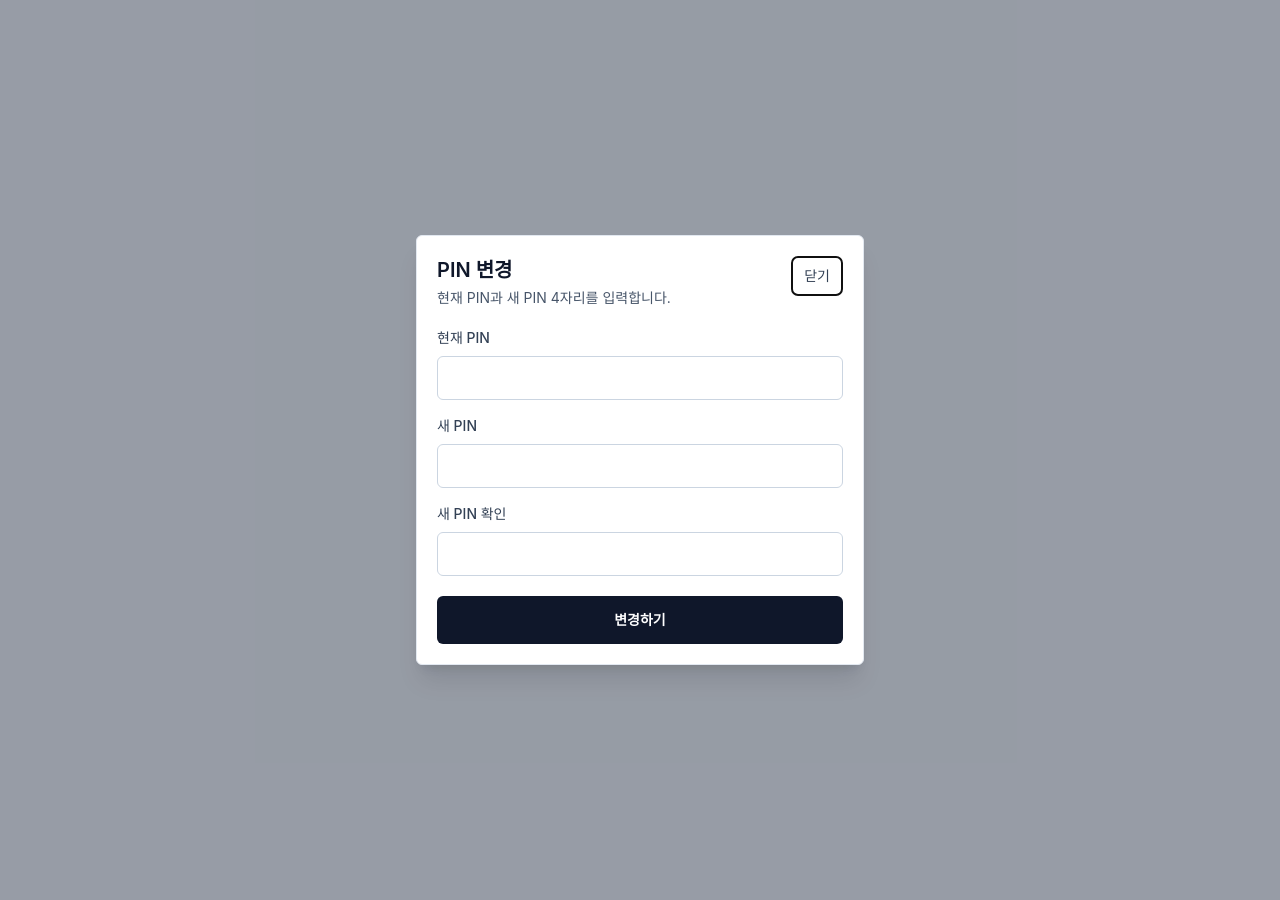
Test: does not submit when the new PIN confirmation differs
The image size is (1280, 900).
Type "0000" into the password field labelled "현재 PIN".
click(640, 378); type("0000")  # box [437,356,843,400]
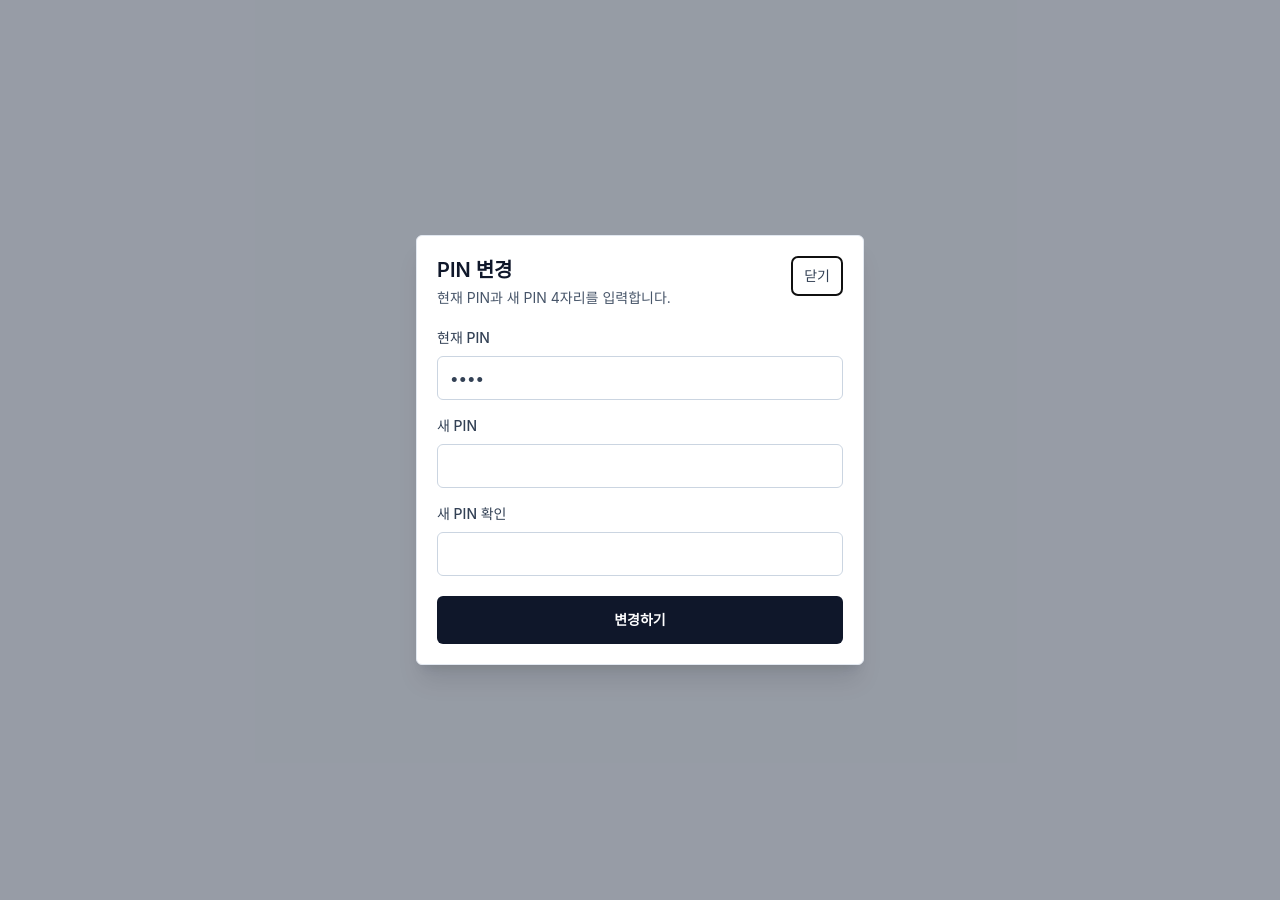
Type "0123" into the password field labelled "새 PIN".
click(640, 466); type("0123")  # box [437,444,843,488]
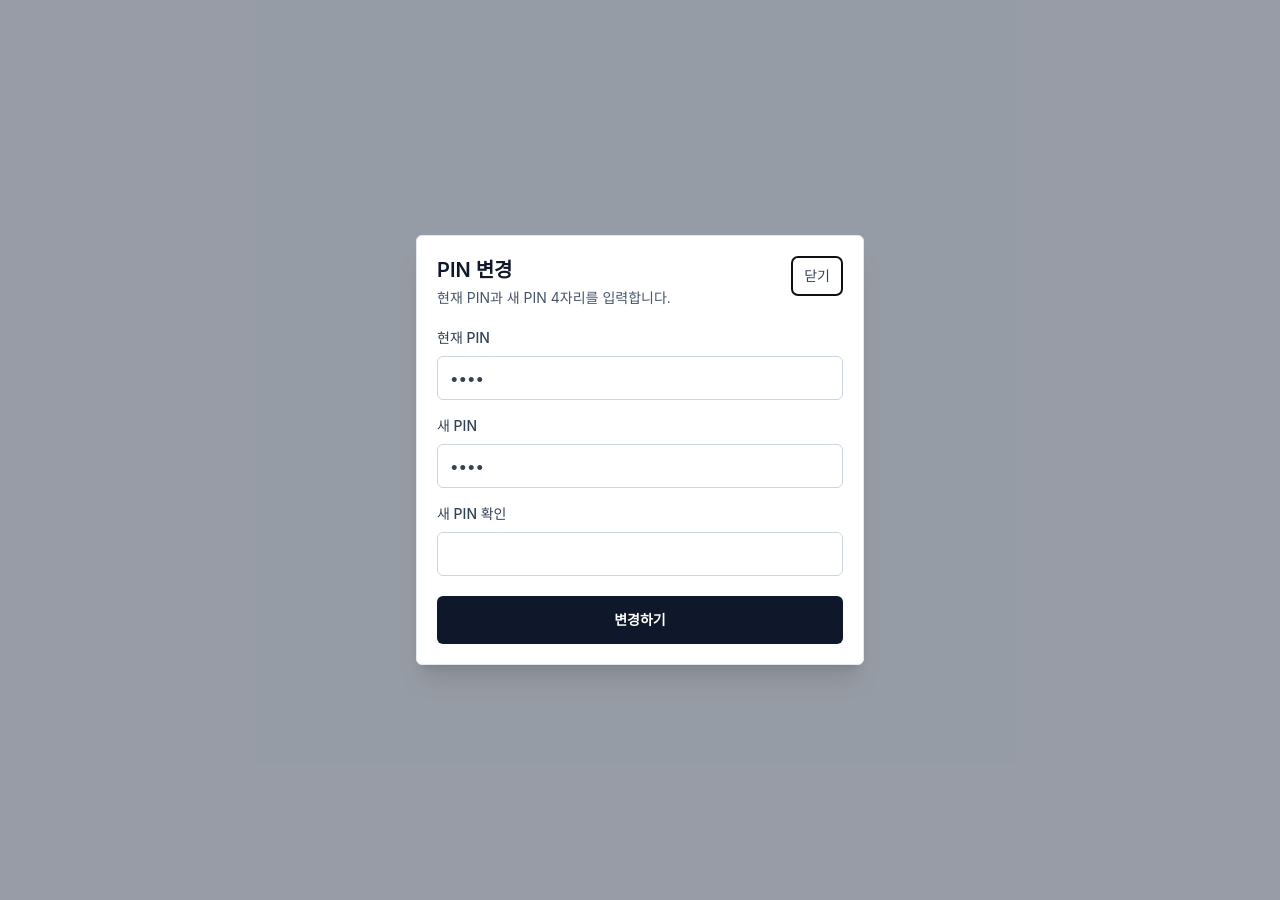
Type "0124" into the password field labelled "새 PIN 확인".
click(640, 554); type("0124")  # box [437,532,843,576]
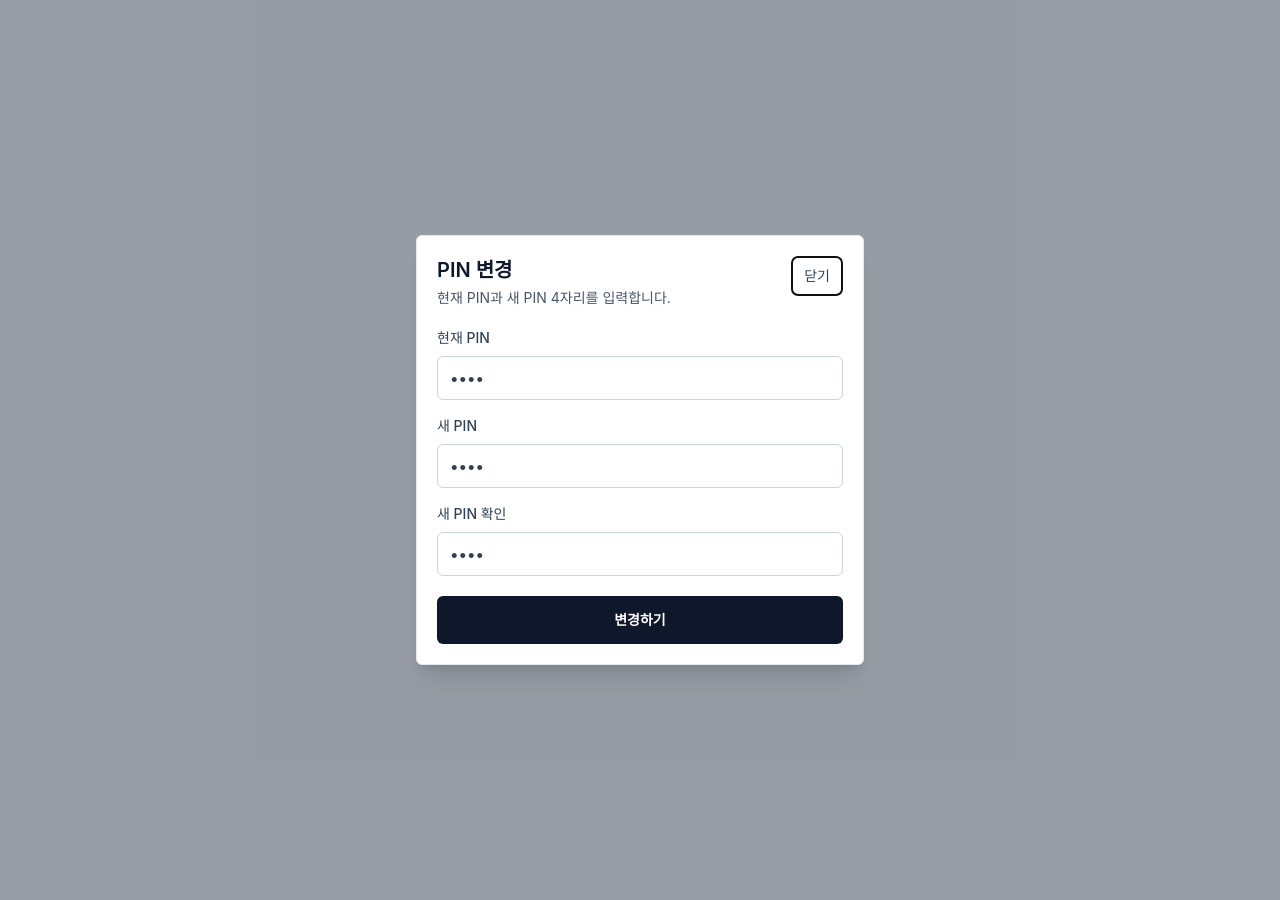
Click the button "변경하기".
click(640, 620)  # box [437,596,843,644]
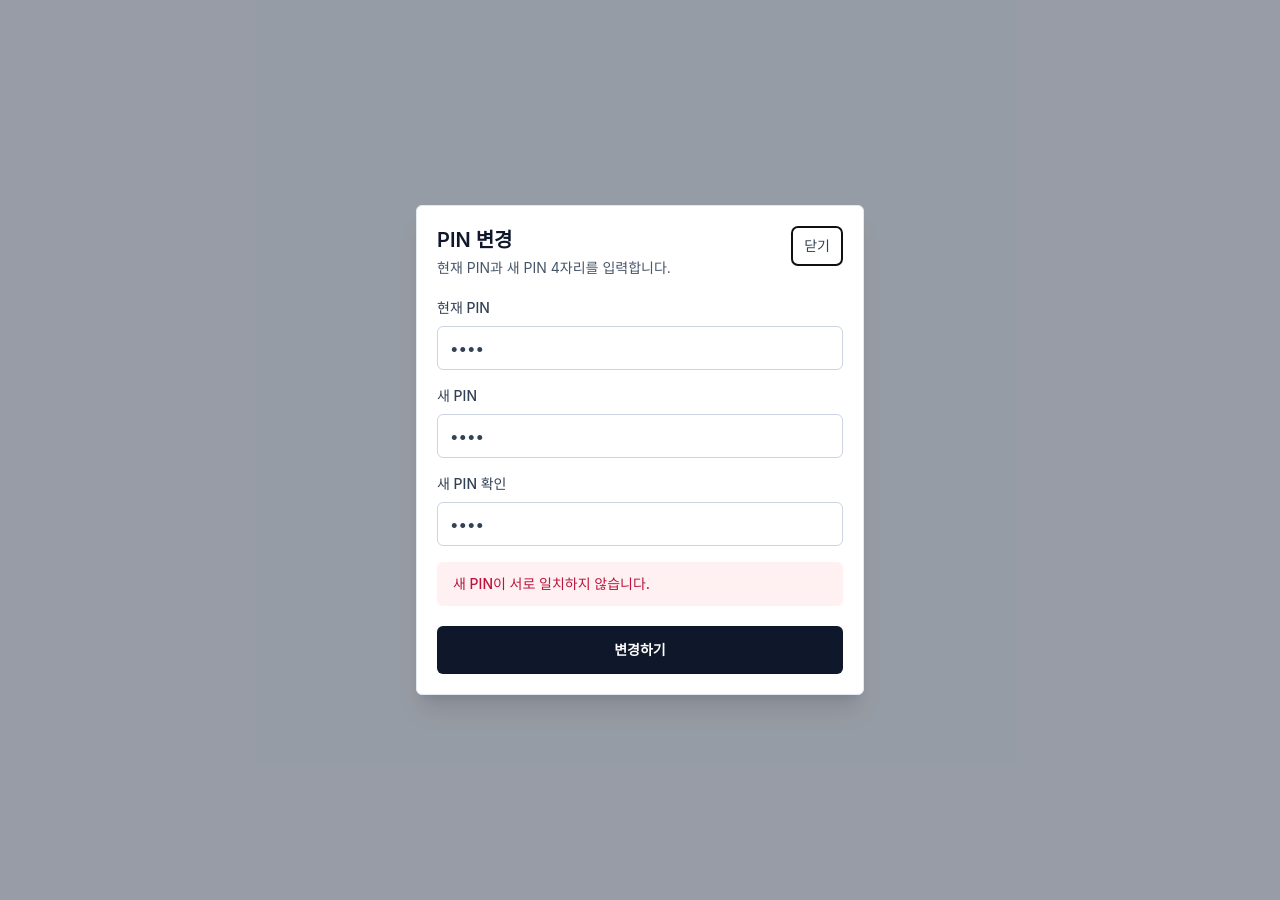
Result: the text "새 PIN이 서로 일치하지 않습니다." is shown at [437,562,843,606]
